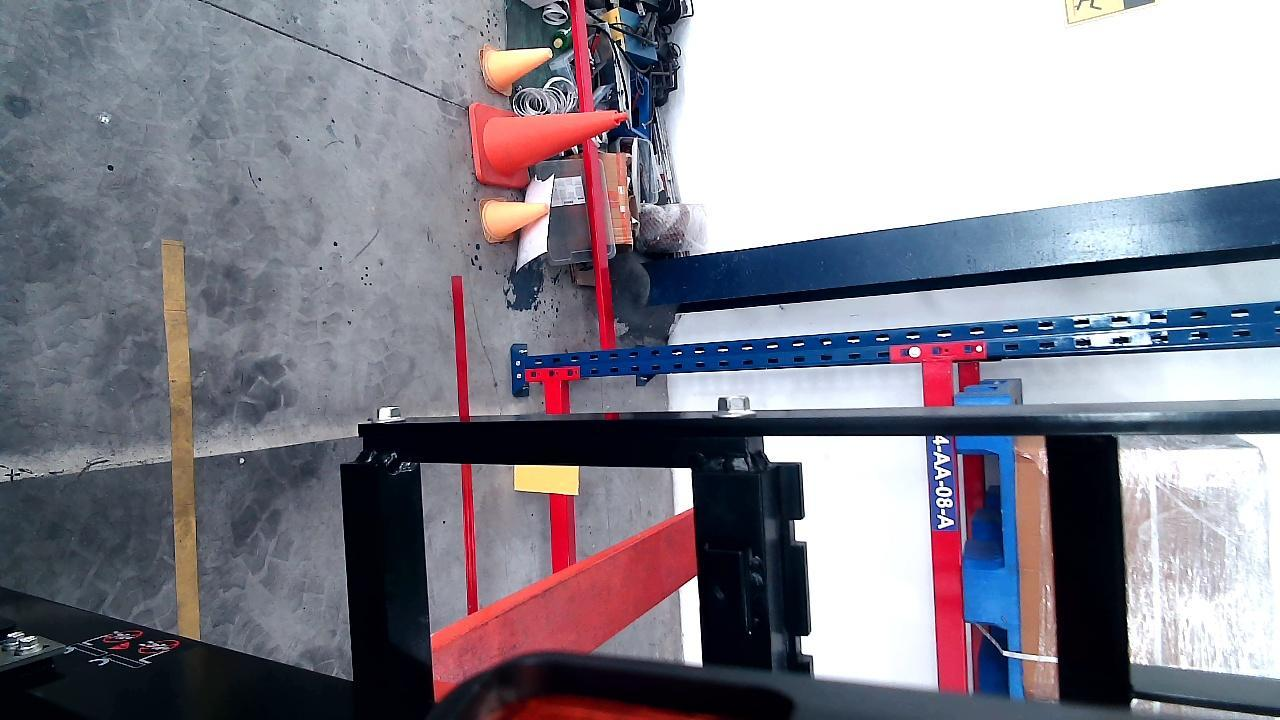red_line: (449, 278, 477, 617)
yellow_line: (163, 238, 199, 641)
